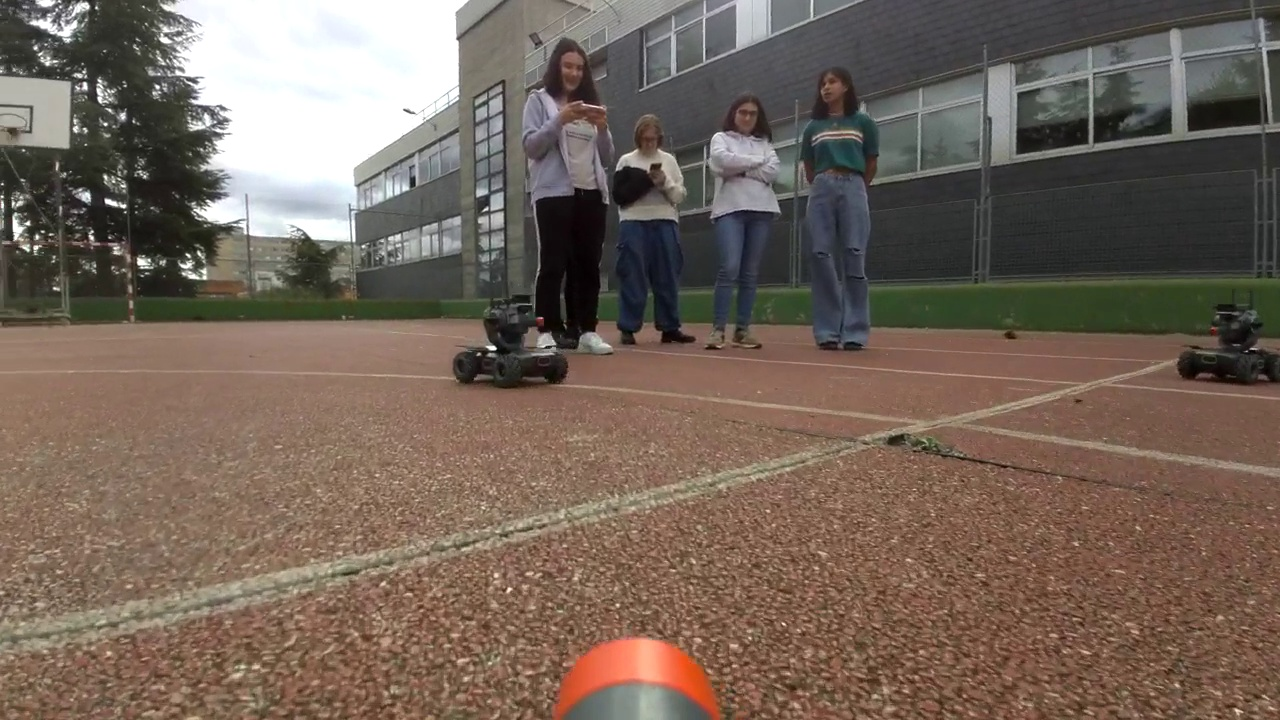robot: (453, 295, 569, 387), (1177, 302, 1280, 384)
